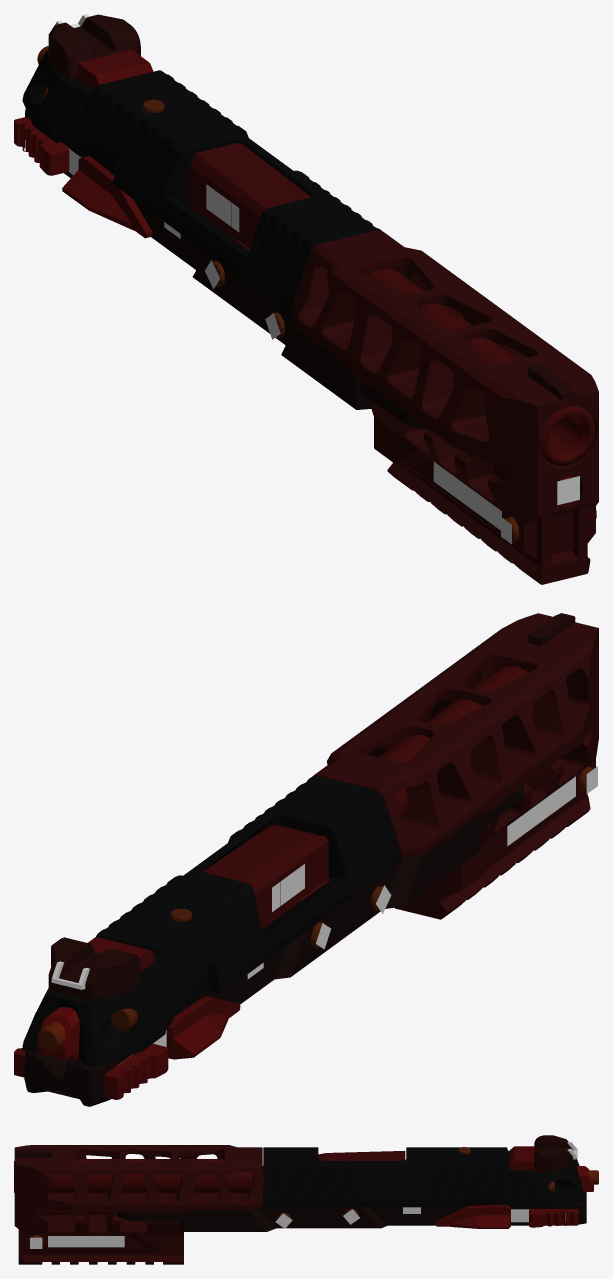
The model's file is Front_Pistol_4.glb.
3 renders of one model, top to bottom at view 1: azimuth 30°, elevation 25°; view 2: azimuth 150°, elevation 25°; view 3: azimuth 270°, elevation 25°, orthographic. The views are drawn at different scales.
Visible parts, largest first — view 1: g_frame, g_slide, g_barrel, g_decals_frame; view 2: g_frame, g_slide, g_barrel, g_decals_frame; view 3: g_frame, g_slide, g_barrel, g_decals_frame.
Part boxes in pixels (<box>): g_frame: <box>14,109,598,584</box>; g_slide: <box>22,14,381,315</box>; g_barrel: <box>189,143,595,500</box>; g_decals_frame: <box>64,145,579,544</box>; g_frame: <box>14,613,598,1106</box>; g_slide: <box>22,775,401,1067</box>; g_barrel: <box>204,666,567,929</box>; g_decals_frame: <box>119,766,597,1064</box>; g_frame: <box>14,1145,586,1264</box>; g_slide: <box>263,1135,598,1207</box>; g_barrel: <box>14,1151,405,1215</box>; g_decals_frame: <box>30,1207,565,1248</box>.
Bounding box in the file's own units: 0.0453 × 0.0663 × 0.3096.
